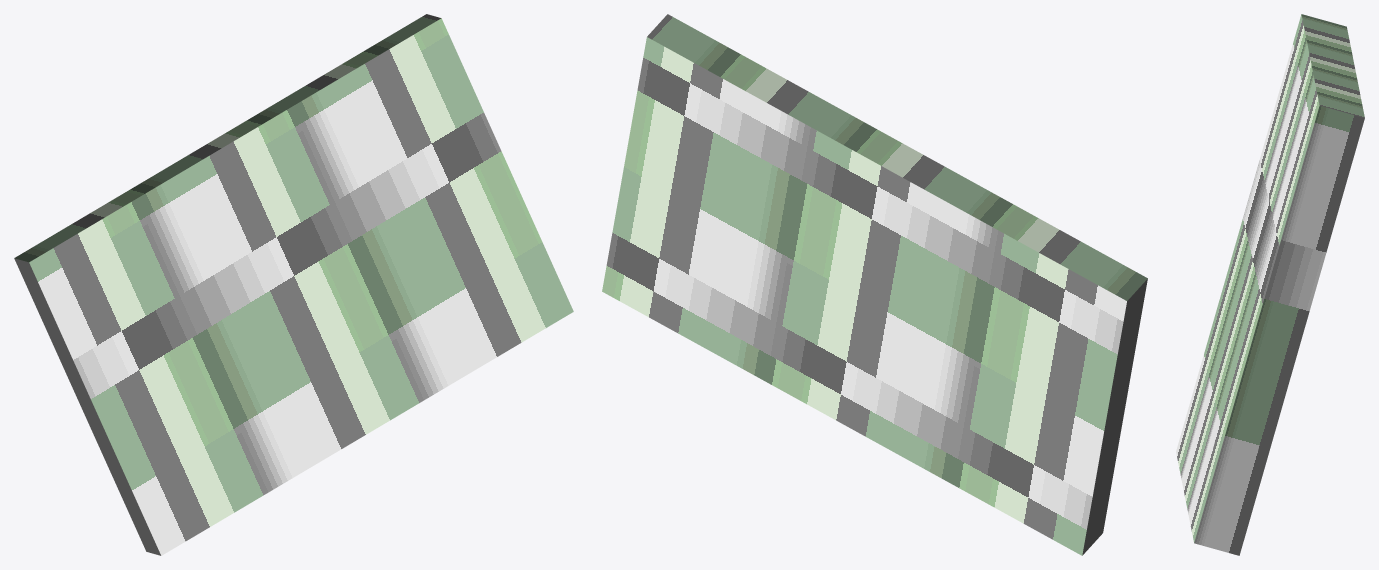
The model's file is 2756memo.gltf.
The picture shows the model from 3 angles, left to right: view 1: azimuth 30°, elevation 25°; view 2: azimuth 150°, elevation 25°; view 3: azimuth 270°, elevation 25°; orthographic projection. The views are drawn at different scales.
Parts seen in each view (by area): view 1: 2756memo; view 2: 2756memo; view 3: 2756memo.
Part boxes in pixels (<box>): 2756memo: <box>14,14,573,555</box>; 2756memo: <box>602,14,1147,555</box>; 2756memo: <box>1176,14,1364,555</box>.
Bounding box in the file's own units: 0.6366 × 0.5115 × 0.1515.
1 material, 1 textured.
